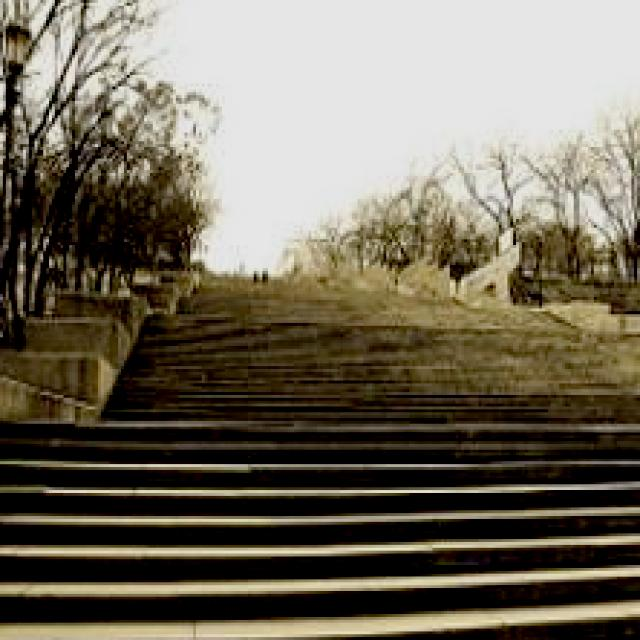upstair: (59, 402, 583, 621)
